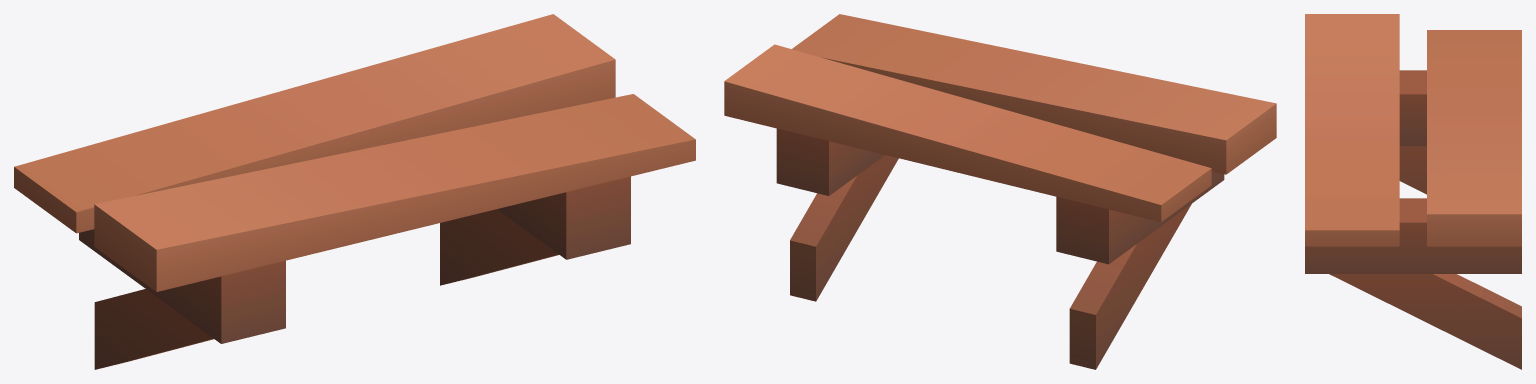
File: kenney-platformer-platform-overhang.glb
3 renders of one model, left to right at view 1: azimuth 30°, elevation 25°; view 2: azimuth 150°, elevation 25°; view 3: azimuth 270°, elevation 25°, orthographic. The views are drawn at different scales.
Visible parts, largest first — view 1: platform-overhang; view 2: platform-overhang; view 3: platform-overhang.
Boxes of the visible parts, x1=… form: platform-overhang: x1=14, y1=14, x2=695, y2=369; platform-overhang: x1=724, y1=14, x2=1276, y2=369; platform-overhang: x1=1305, y1=14, x2=1521, y2=369.
Bounding box in the file's own units: 1 × 0.4325 × 0.4577.
Materials: 1 (1 with a texture image).
